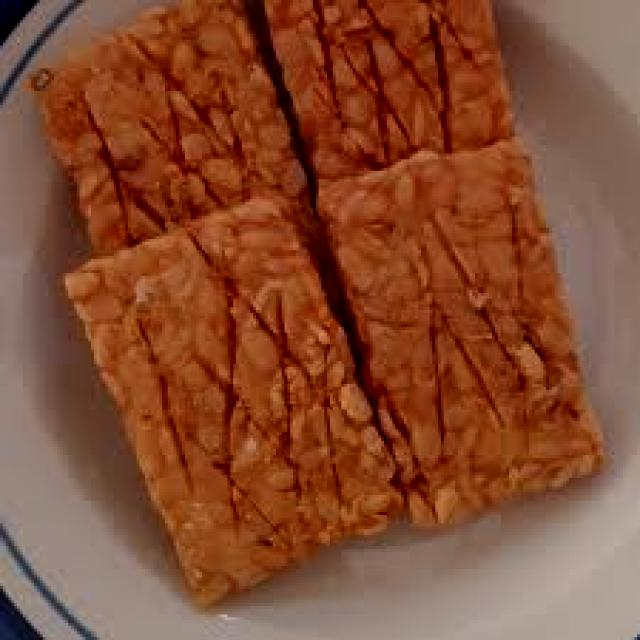tempe goreng: (51, 194, 369, 602), (288, 140, 610, 526), (11, 30, 312, 234), (235, 3, 561, 177)
